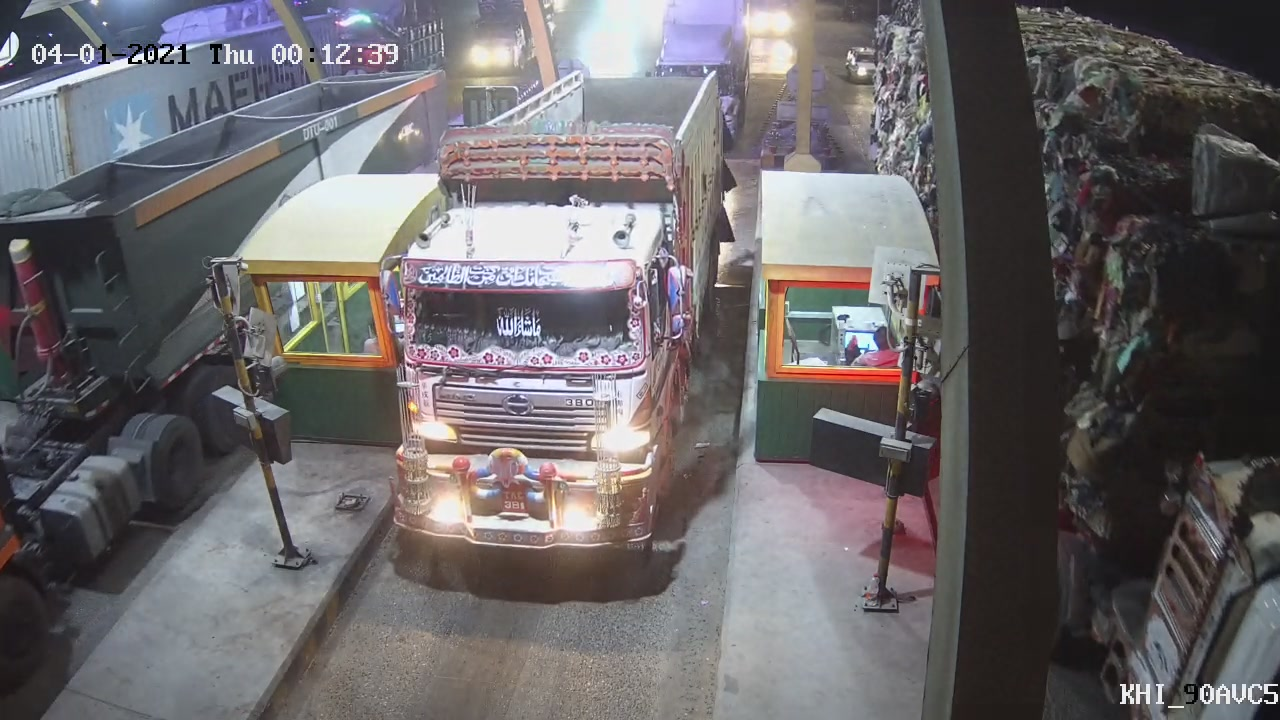F5: (374, 61, 739, 602)
